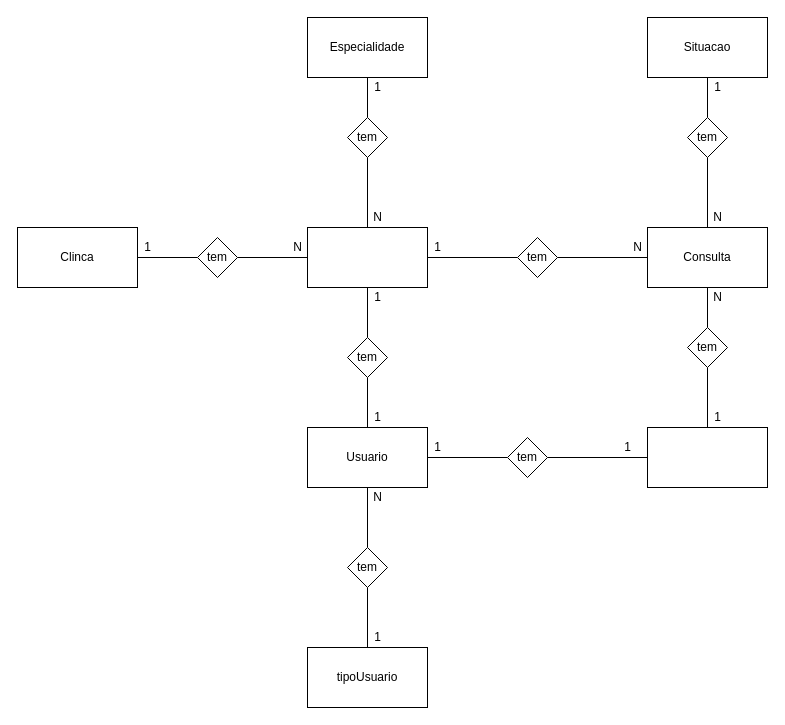
Some shapes in this 785 by 725 pixel diagram are drawn without their labels. The shapes that lost their labels are listed below. From the top down, each one's centre as x and y in pixels, then its label:
At point 367,257: "Medico".
At point 707,457: "Paciente".
